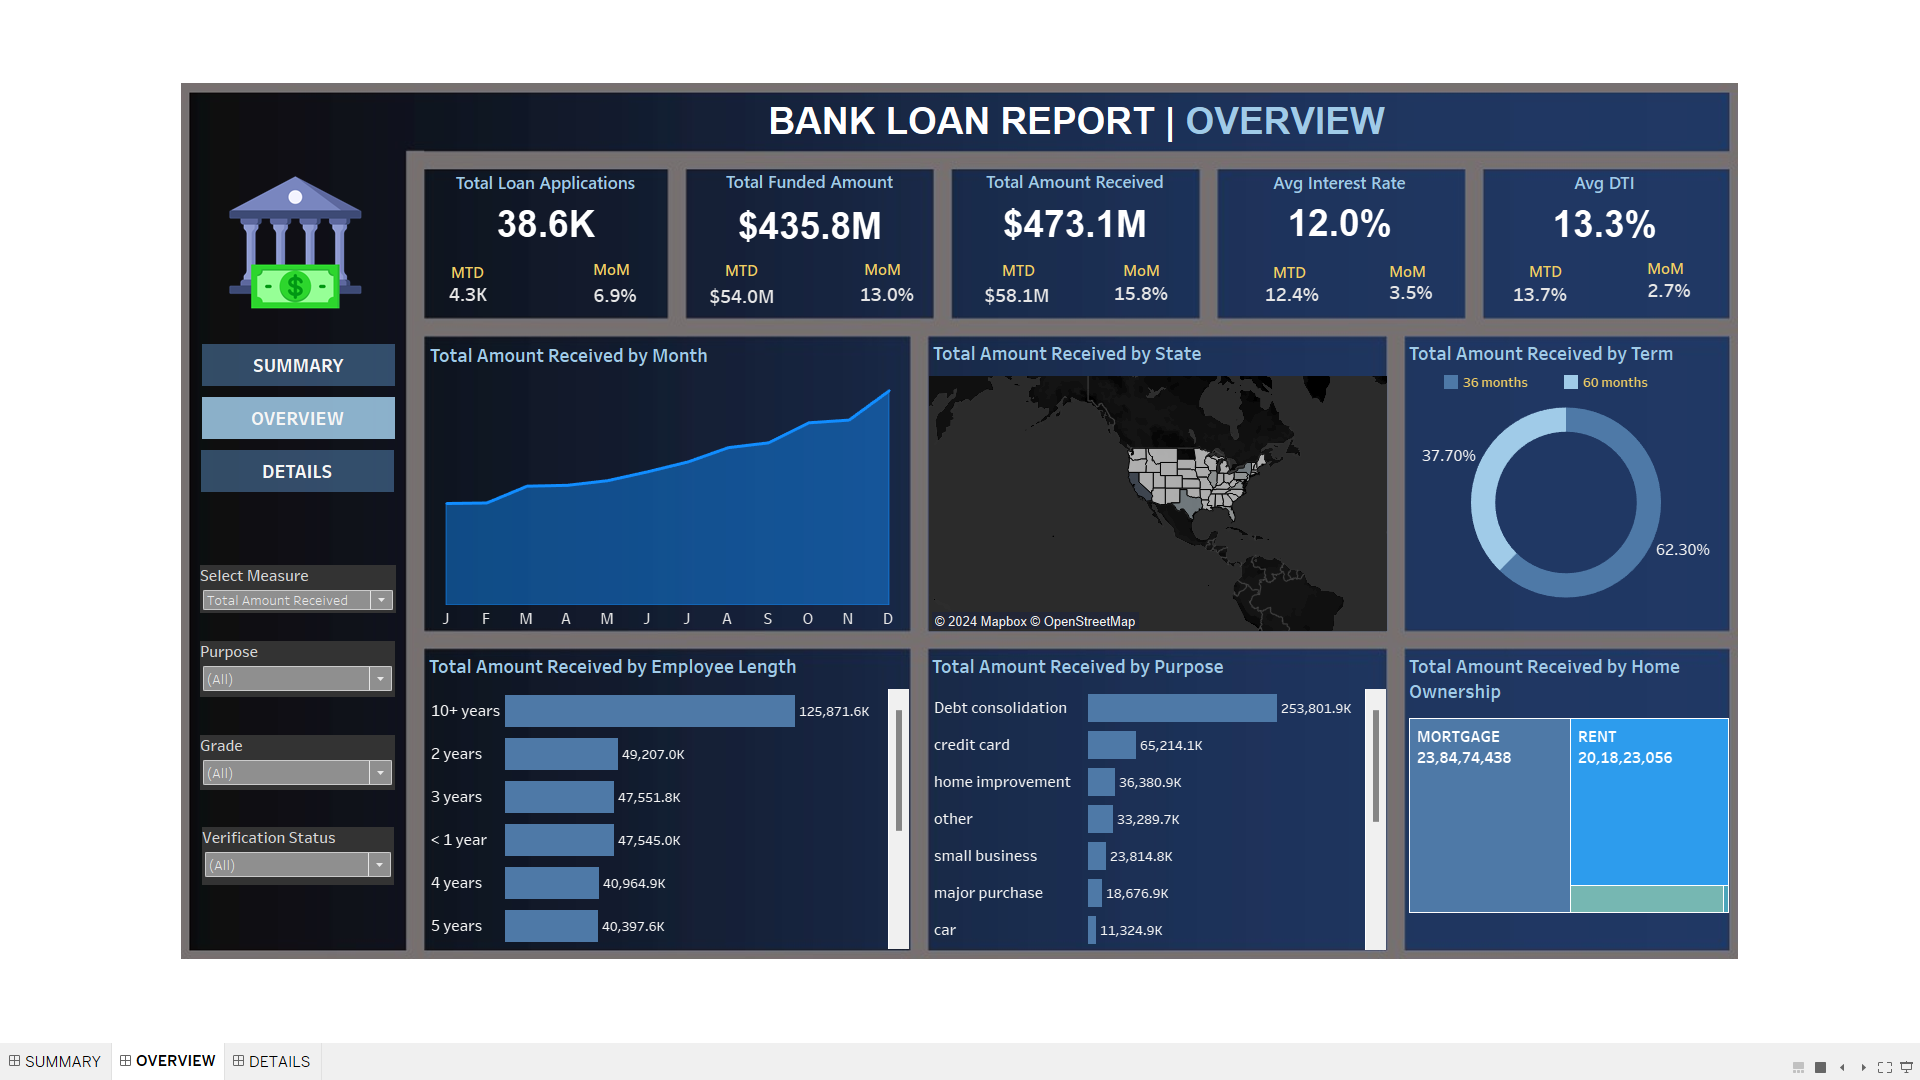

What the dashboard file says about the page in this screenshot:
{"tool":"tableau","page":{"name":"OVERVIEW","canvas":[1600,900],"ordinal":1},"visuals":[{"type":"image","param":"Image/Tableau Background 2.jpg","box":[8,8,1584,884]},{"type":"text","box":[605,23,679,55]},{"type":"image","param":"Image/banking.png","box":[66,91,138,160]},{"type":"worksheet","title":"Total Funded Amount","mark":"Automatic","box":[526,95,247,84]},{"type":"worksheet","title":"Total Amount Received","mark":"Automatic","box":[791,95,248,79]},{"type":"worksheet","title":"Total Loan Applications","mark":"Automatic","box":[264,96,243,78]},{"type":"worksheet","title":"Avg Interest Rate","mark":"Automatic","box":[1056,96,247,76]},{"type":"worksheet","title":"Avg DTI","mark":"Automatic","box":[1322,96,245,78]},{"type":"text","box":[1468,185,75,24]},{"type":"text","box":[414,186,75,24]},{"type":"text","box":[685,186,75,24]},{"type":"text","box":[544,187,75,24]},{"type":"text","box":[821,187,75,24]},{"type":"text","box":[944,187,75,24]},{"type":"text","box":[1210,188,75,24]},{"type":"text","box":[1348,188,75,24]},{"type":"text","box":[270,189,75,24]},{"type":"text","box":[1092,189,75,24]},{"type":"worksheet","title":"MoM Avg DTI","mark":"Automatic","box":[1460,199,98,40]},{"type":"worksheet","title":"MoM Avg Interest Rate","mark":"Automatic","box":[1213,200,75,42]},{"type":"worksheet","title":"MoM Total Funded Amount","mark":"Automatic","box":[682,202,89,42]},{"type":"worksheet","title":"MTD Total Amount Received","mark":"Automatic","box":[816,202,82,44]},{"type":"worksheet","title":"MTD DTI","mark":"Automatic","box":[1332,202,96,41]},{"type":"worksheet","title":"MTD Avg Interest Rate","mark":"Automatic","box":[1089,203,85,39]},{"type":"worksheet","title":"MoM Total Amount Received","mark":"Automatic","box":[943,205,76,33]},{"type":"worksheet","title":"MTD Total Loan Applications","mark":"Automatic","box":[276,207,64,31]},{"type":"worksheet","title":"MTD Total Funded Amount","mark":"Automatic","box":[544,207,75,35]},{"type":"worksheet","title":"MoM Loan Applications","mark":"Automatic","box":[421,209,68,29]},{"type":"worksheet","title":"State","mark":"Multipolygon","box":[769,265,458,295]},{"type":"worksheet","title":"Term","mark":"Pie","rows":["Calculation_813744188394987522","Calculation_813744188394987522"],"box":[1245,265,322,293]},{"type":"worksheet","title":"Month","mark":"Area","rows":["Calculation_813744188387573760","Calculation_813744188387573760"],"cols":["issue_date"],"box":[266,267,483,292]},{"type":"dashboard-object","box":[42,273,193,42]},{"type":"legend","title":"Term","param":"[federated.1yo319s07czi5s1dtju3v0njmv9x].[none:term:nk]","box":[1281,301,252,18]},{"type":"dashboard-object","box":[42,326,193,42]},{"type":"dashboard-object","box":[41,379,193,42]},{"type":"parameter","param":"[Parameters].[Parameter 1]","box":[40,494,196,48]},{"type":"filter","title":"Avg DTI","param":"[federated.1yo319s07czi5s1dtju3v0njmv9x].[none:purpose:nk]","box":[40,570,195,56]},{"type":"worksheet","title":"Emp Length","mark":"Automatic","rows":["emp_length"],"cols":["Calculation_813744188387573760"],"box":[265,578,484,300]},{"type":"worksheet","title":"Purpose","mark":"Automatic","rows":["purpose"],"cols":["Calculation_813744188387573760"],"box":[768,578,458,301]},{"type":"worksheet","title":"Home Ownership","mark":"Automatic","box":[1245,578,327,305]},{"type":"filter","title":"Avg DTI","param":"[federated.1yo319s07czi5s1dtju3v0njmv9x].[none:grade:nk]","box":[40,664,195,55]},{"type":"filter","title":"Avg DTI","param":"[federated.1yo319s07czi5s1dtju3v0njmv9x].[none:verification_status:nk]","box":[42,756,192,58]}]}

Visuals, with their boxes on the page's 1600x900 design canvas (x1, y1, x2, y2). These are canvas units, not pixel positions in the 1920x1080 screenshot, which may show the page scaled, cropped or inside an application window:
image: <region>8, 8, 1592, 892</region>
text: <region>605, 23, 1284, 78</region>
image: <region>66, 91, 204, 251</region>
"Total Funded Amount" worksheet: <region>526, 95, 773, 179</region>
"Total Amount Received" worksheet: <region>791, 95, 1039, 174</region>
"Total Loan Applications" worksheet: <region>264, 96, 507, 174</region>
"Avg Interest Rate" worksheet: <region>1056, 96, 1303, 172</region>
"Avg DTI" worksheet: <region>1322, 96, 1567, 174</region>
text: <region>1468, 185, 1543, 209</region>
text: <region>414, 186, 489, 210</region>
text: <region>685, 186, 760, 210</region>
text: <region>544, 187, 619, 211</region>
text: <region>821, 187, 896, 211</region>
text: <region>944, 187, 1019, 211</region>
text: <region>1210, 188, 1285, 212</region>
text: <region>1348, 188, 1423, 212</region>
text: <region>270, 189, 345, 213</region>
text: <region>1092, 189, 1167, 213</region>
"MoM Avg DTI" worksheet: <region>1460, 199, 1558, 239</region>
"MoM Avg Interest Rate" worksheet: <region>1213, 200, 1288, 242</region>
"MoM Total Funded Amount" worksheet: <region>682, 202, 771, 244</region>
"MTD Total Amount Received" worksheet: <region>816, 202, 898, 246</region>
"MTD DTI" worksheet: <region>1332, 202, 1428, 243</region>
"MTD Avg Interest Rate" worksheet: <region>1089, 203, 1174, 242</region>
"MoM Total Amount Received" worksheet: <region>943, 205, 1019, 238</region>
"MTD Total Loan Applications" worksheet: <region>276, 207, 340, 238</region>
"MTD Total Funded Amount" worksheet: <region>544, 207, 619, 242</region>
"MoM Loan Applications" worksheet: <region>421, 209, 489, 238</region>
"State" worksheet (Multipolygon marks): <region>769, 265, 1227, 560</region>
"Term" worksheet (Pie marks): <region>1245, 265, 1567, 558</region>
"Month" worksheet (Area marks): <region>266, 267, 749, 559</region>
dashboard-object: <region>42, 273, 235, 315</region>
"Term" legend: <region>1281, 301, 1533, 319</region>
dashboard-object: <region>42, 326, 235, 368</region>
dashboard-object: <region>41, 379, 234, 421</region>
parameter: <region>40, 494, 236, 542</region>
"Avg DTI" filter: <region>40, 570, 235, 626</region>
"Emp Length" worksheet: <region>265, 578, 749, 878</region>
"Purpose" worksheet: <region>768, 578, 1226, 879</region>
"Home Ownership" worksheet: <region>1245, 578, 1572, 883</region>
"Avg DTI" filter: <region>40, 664, 235, 719</region>
"Avg DTI" filter: <region>42, 756, 234, 814</region>
